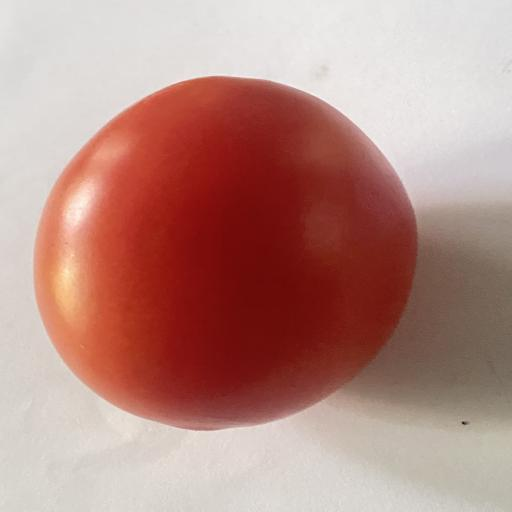ripe: (34, 76, 417, 430)
